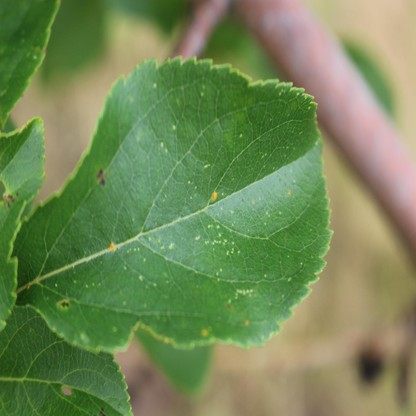rust: (108, 242, 117, 252), (201, 327, 209, 336), (244, 318, 249, 325), (212, 192, 217, 199), (288, 189, 291, 194)
